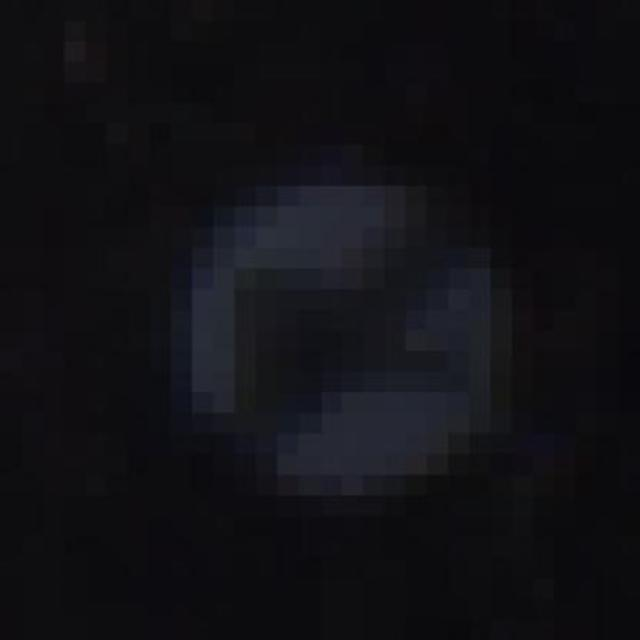Overtaking by trucks is prohibited: (128, 103, 555, 537)
